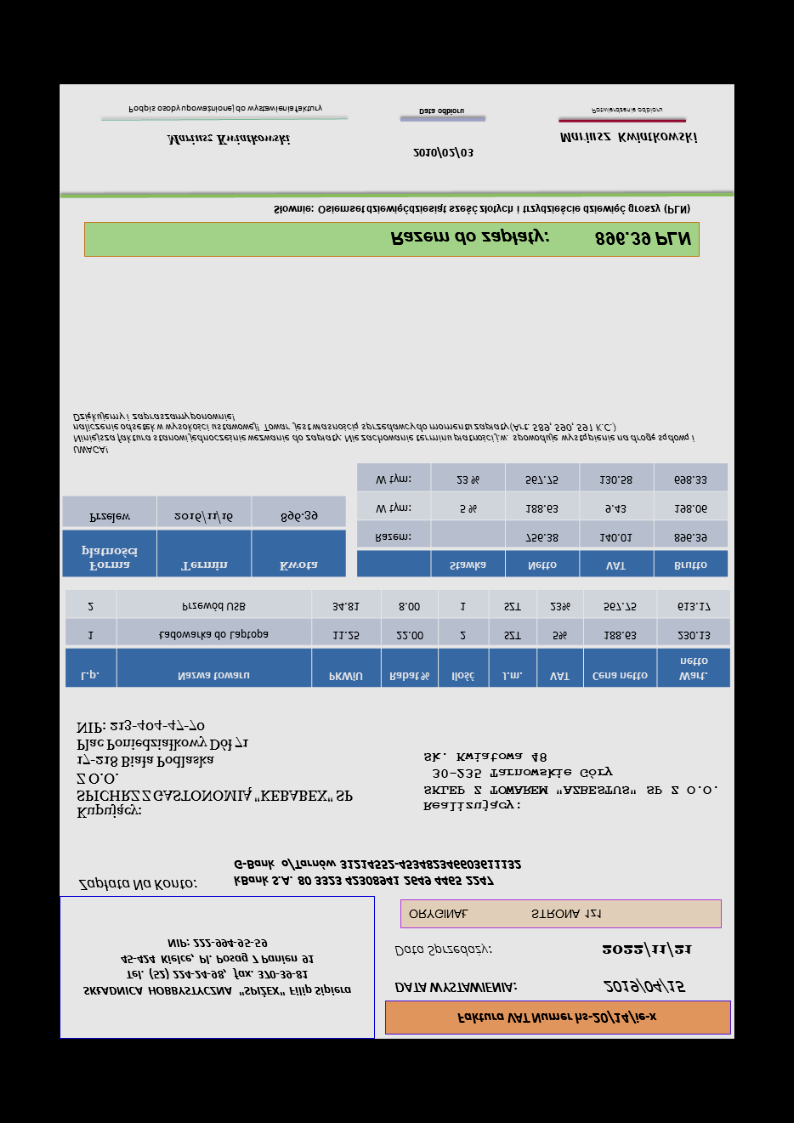Table: (63, 587, 733, 689), (355, 462, 728, 580), (61, 495, 346, 579)
TextBox: (71, 718, 358, 824), (70, 410, 699, 458), (419, 748, 718, 815), (82, 937, 353, 1000), (230, 858, 524, 890), (271, 200, 694, 219), (388, 226, 694, 252), (455, 1009, 657, 1027), (125, 100, 325, 118), (406, 905, 605, 923), (558, 128, 702, 146), (164, 131, 292, 151), (74, 876, 200, 894), (393, 980, 519, 997), (392, 941, 493, 961), (598, 938, 693, 959), (600, 978, 687, 996), (589, 102, 665, 118), (410, 144, 474, 162), (416, 106, 467, 118)
